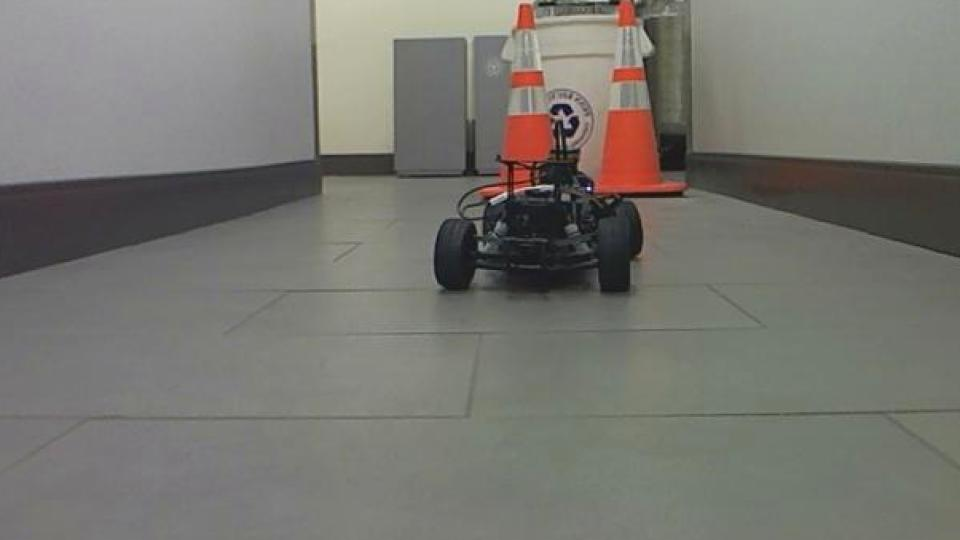car: (430, 115, 648, 297)
